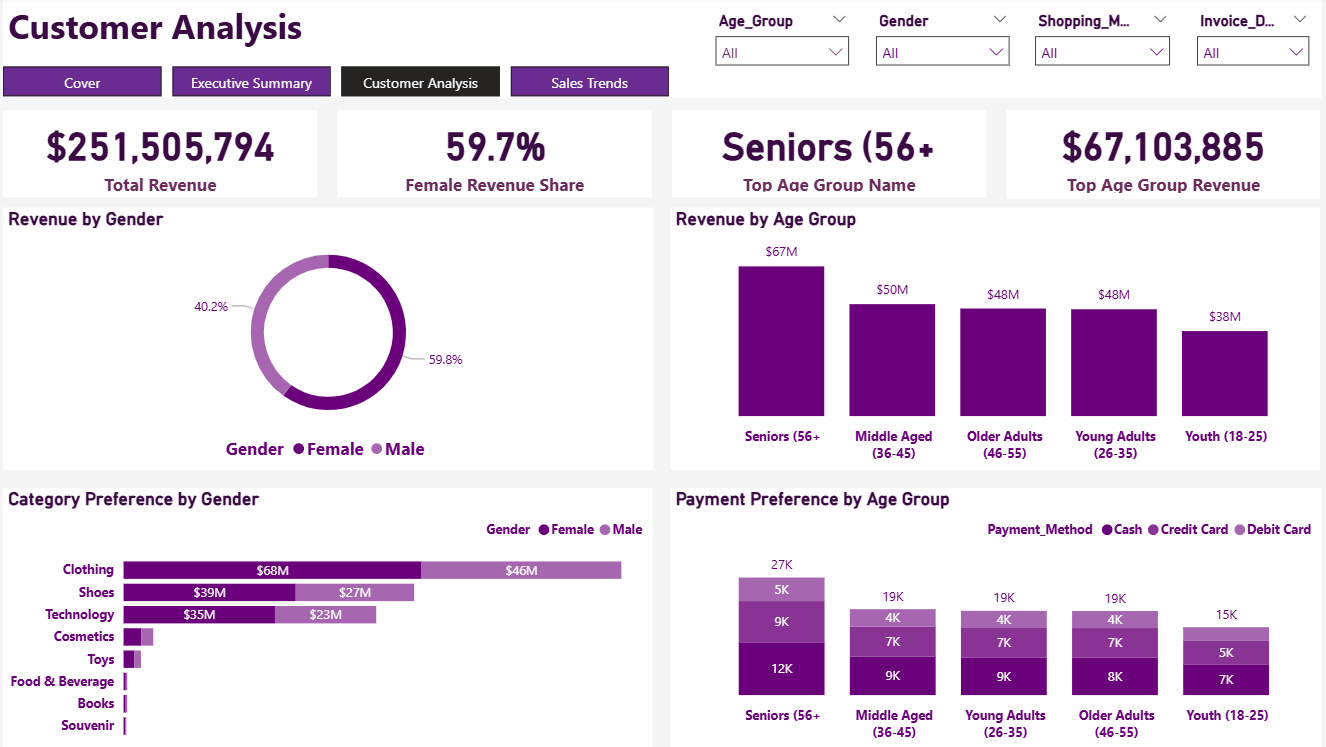

Layout of this report page (visuals, bound fields, positions):
{"tool":"powerbi","page":{"name":"Customer Analysis","canvas":[1280,720],"ordinal":2},"visuals":[{"type":"textbox","box":[22.3,0,1239.1,67],"z":0},{"type":"donutChart","title":"Revenue by Gender","fields":{"Category":["final_shopping.Gender"],"Y":["final_shopping.Total Transactions"]},"box":[22.3,199.3,604.4,245.6],"z":1000},{"type":"clusteredColumnChart","title":"Revenue by Age Group","fields":{"Category":["final_shopping.Age_Group"],"Y":["final_shopping.Total Revenue"]},"box":[650.6,199.3,604.4,245.6],"z":2000},{"type":"barChart","title":"Category Preference by Gender","fields":{"Y":["final_shopping.Total Revenue"],"Category":["final_shopping.Category"],"Series":["final_shopping.Gender"]},"box":[22.3,462.5,604.4,245.6],"z":3000},{"type":"columnChart","title":"Payment Preference by Age Group","fields":{"Category":["final_shopping.Age_Group"],"Y":["final_shopping.Total Transactions"],"Series":["final_shopping.Payment_Method"]},"box":[650.6,462.5,610.8,245.6],"z":4000},{"type":"slicer","fields":{"Values":["final_shopping.Gender"]},"box":[813.2,0,145.4,67.1],"z":5000},{"type":"slicer","fields":{"Values":["final_shopping.Shopping_Mall"]},"box":[971.4,0,147,67.1],"z":6000},{"type":"slicer","fields":{"Values":["final_shopping.Invoice_Date"]},"box":[1129.1,0,126,67],"z":7000},{"type":"slicer","fields":{"Values":["final_shopping.Age_Group"]},"box":[667.8,0,145.4,67.1],"z":8000},{"type":"card","fields":{"Values":["final_shopping.Total Revenue"]},"box":[22.3,76.5,317.3,100.5],"z":9000},{"type":"card","fields":{"Values":["final_shopping.Female Revenue Share"]},"box":[365.8,76.5,279,100.5],"z":10000},{"type":"card","fields":{"Values":["final_shopping.Top Age Group Revenue"]},"box":[976,78.1,279.1,100.5],"z":11000},{"type":"card","fields":{"Values":["final_shopping.Top Age Group Name"]},"box":[670.9,76.7,279,100.7],"z":12000}]}

Visuals, with their boxes in screenshot pixels (x1, y1, x2, y2), scaled from the page's 1280x720 canvas onto the 1326x747 screenshot:
textbox: box(23, 0, 1307, 70)
"Revenue by Gender" donutChart: box(23, 207, 649, 462)
"Revenue by Age Group" clusteredColumnChart: box(674, 207, 1300, 462)
"Category Preference by Gender" barChart: box(23, 480, 649, 735)
"Payment Preference by Age Group" columnChart: box(674, 480, 1307, 735)
slicer - final_shopping.Gender: box(842, 0, 993, 70)
slicer - final_shopping.Shopping_Mall: box(1006, 0, 1159, 70)
slicer - final_shopping.Invoice_Date: box(1170, 0, 1300, 70)
slicer - final_shopping.Age_Group: box(692, 0, 842, 70)
card - final_shopping.Total Revenue: box(23, 79, 352, 184)
card - final_shopping.Female Revenue Share: box(379, 79, 668, 184)
card - final_shopping.Top Age Group Revenue: box(1011, 81, 1300, 185)
card - final_shopping.Top Age Group Name: box(695, 80, 984, 184)
